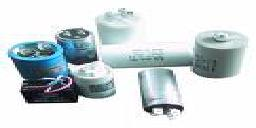Electrolytic Capacitor: (134, 67, 196, 128), (194, 30, 250, 79), (97, 42, 198, 69), (98, 10, 143, 41), (6, 40, 63, 62), (58, 26, 96, 48)
